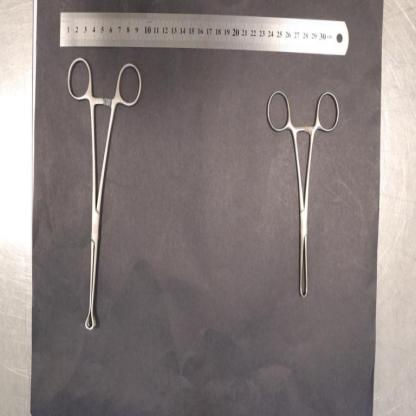8 Babcock Tissue Forceps: (67, 57, 143, 332)
Allis Tissue Forceps: (266, 90, 341, 298)
